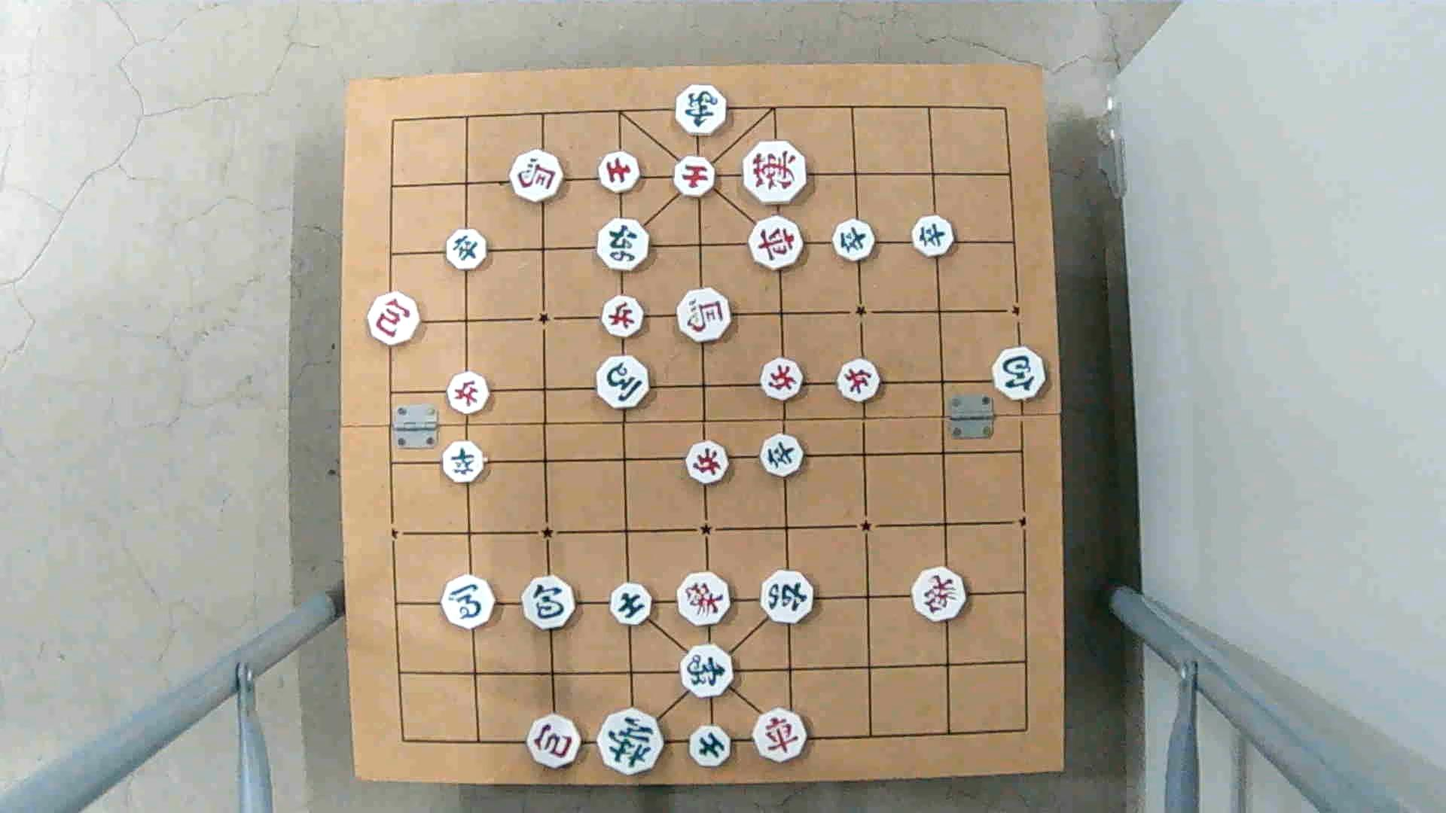cha_green: (760, 572, 816, 622), (594, 221, 650, 268)
cha_red: (752, 711, 809, 760), (751, 218, 804, 269)
jol_green: (759, 436, 807, 475), (441, 443, 488, 481), (446, 229, 490, 268), (833, 221, 877, 259), (911, 218, 955, 255)
jol_red: (685, 443, 734, 483), (833, 361, 880, 400), (599, 297, 647, 335), (761, 359, 807, 398), (447, 376, 494, 414)
ma_green: (597, 357, 654, 406), (442, 577, 496, 626)
ma_red: (676, 291, 731, 341), (507, 151, 563, 199)
po_green: (520, 577, 577, 628), (990, 349, 1048, 397)
po_red: (522, 716, 582, 766), (367, 295, 423, 344)
sa_green: (610, 583, 654, 626), (687, 726, 733, 767)
sa_red: (674, 155, 718, 196), (599, 153, 640, 193)
sang_green: (676, 87, 725, 133), (682, 648, 731, 693)
sang_red: (678, 574, 733, 626), (911, 570, 969, 619)
wang_green: (598, 711, 664, 769)
wang_red: (743, 142, 808, 202)
